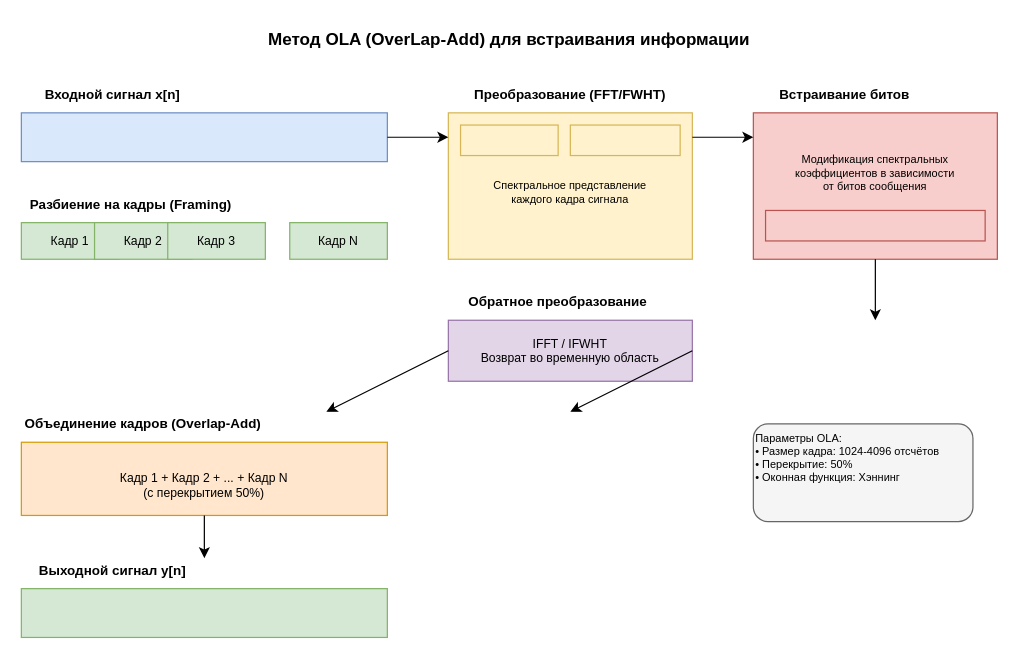
This 1019x659 diagram has some shape labels left out. Here are the shapes that lost their labels. From the top down, the centre of each, then its label:
At (508,140): "FFT (БПФ)".
At (624,140): "FWHT (БПУА)".
At (874,225): "Сообщение: [биты данных]".
